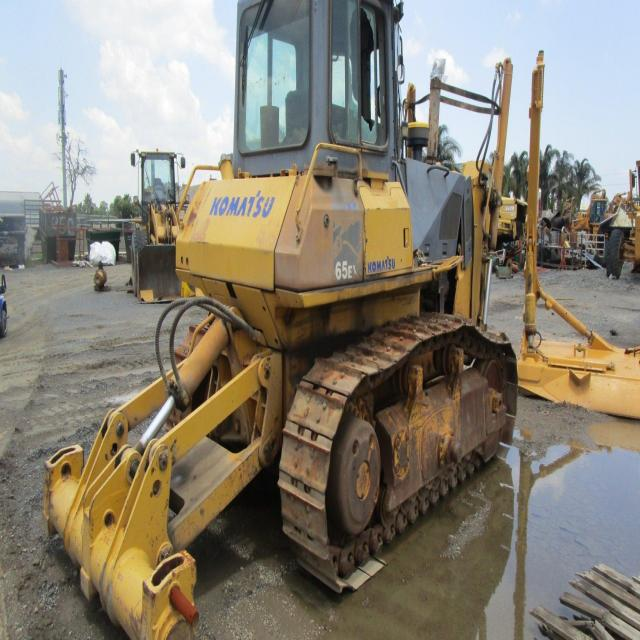Bulldozer: (44, 5, 619, 637)
